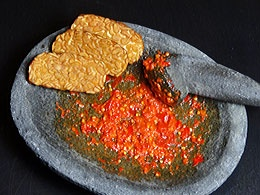sambal: (88, 83, 206, 174)
